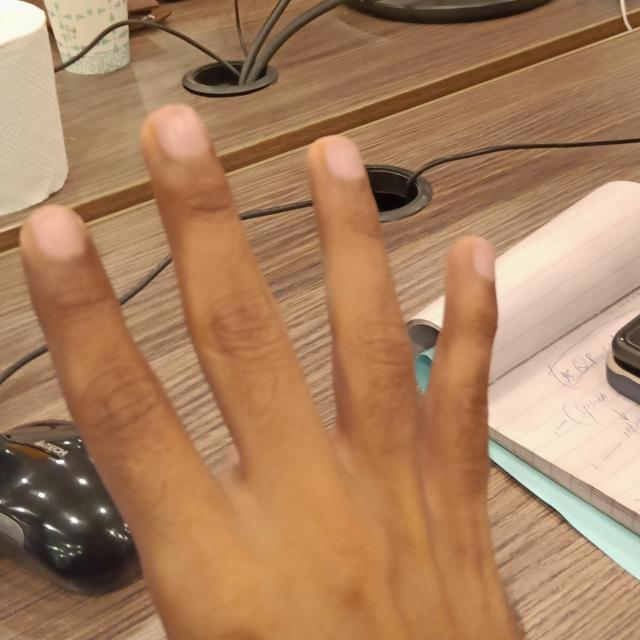Nail: (31, 206, 86, 259), (150, 108, 208, 158), (319, 138, 365, 179), (471, 238, 494, 281)
